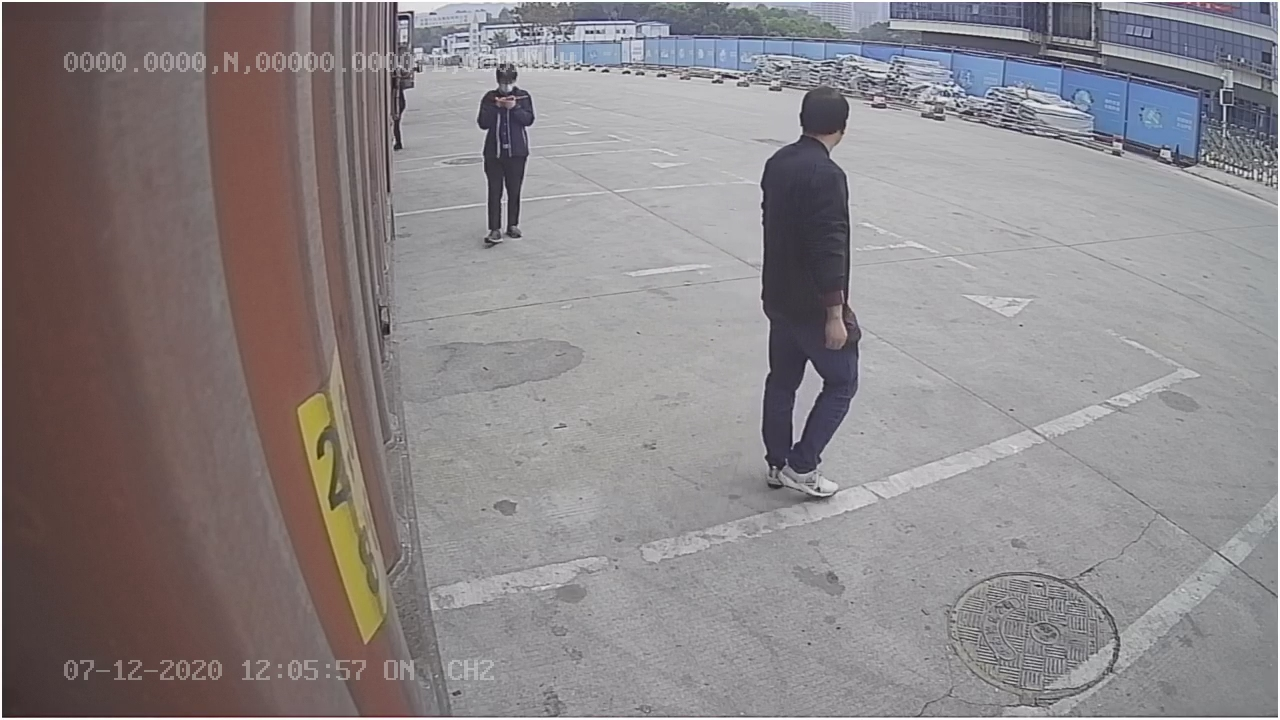person: (750, 80, 864, 505)
